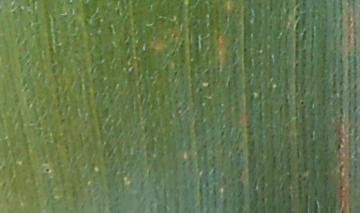tarspot: (44, 167, 51, 174), (299, 99, 305, 106)
